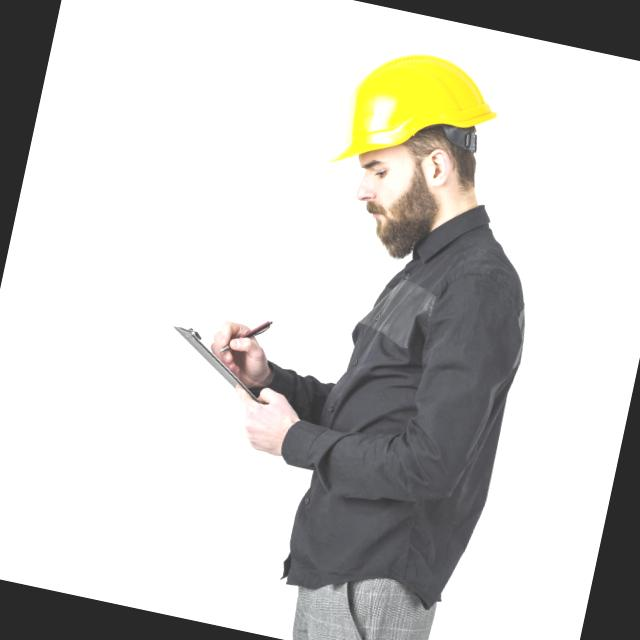helmet: (321, 38, 510, 202)
no-vest: (266, 190, 530, 605)
